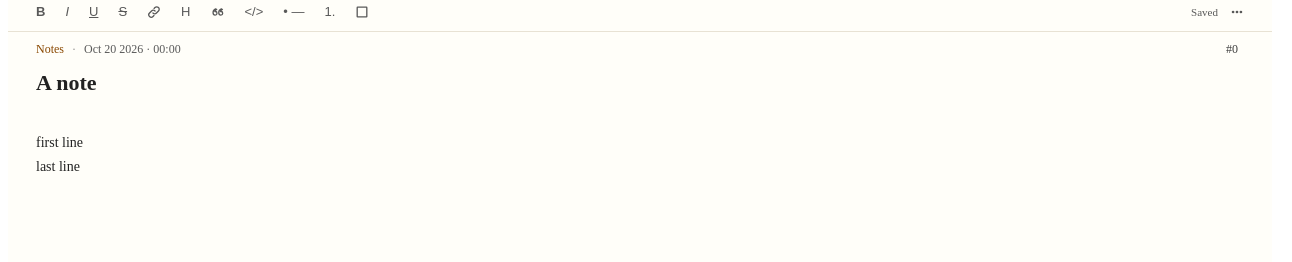
Test: #-autocomplete in the body › typing #st lists the account's tags, prefix matches first, at the caret
(page scrolled)
Clear the field with class "editor-body": (60, 142) x1=36 y1=135 x2=83 y2=174
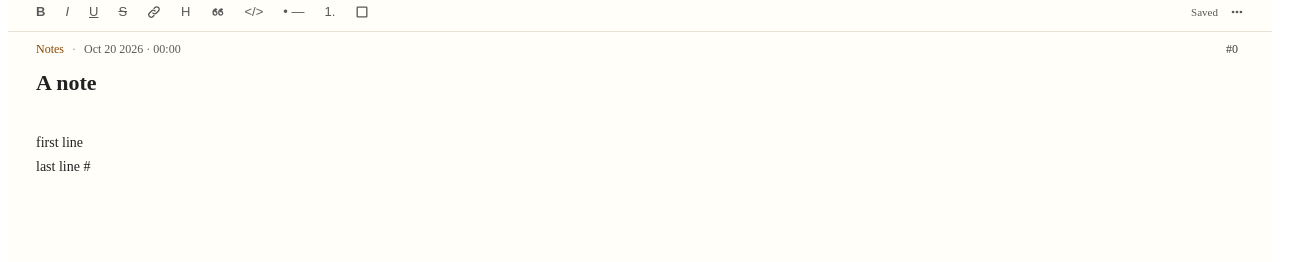
Clear the field with class "editor-body": (60, 142) x1=36 y1=135 x2=90 y2=174
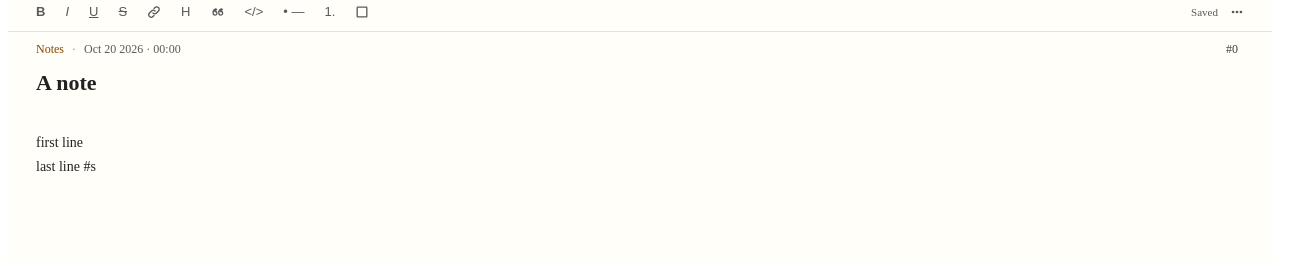
Clear the field with class "editor-body": (60, 142) x1=36 y1=135 x2=96 y2=174
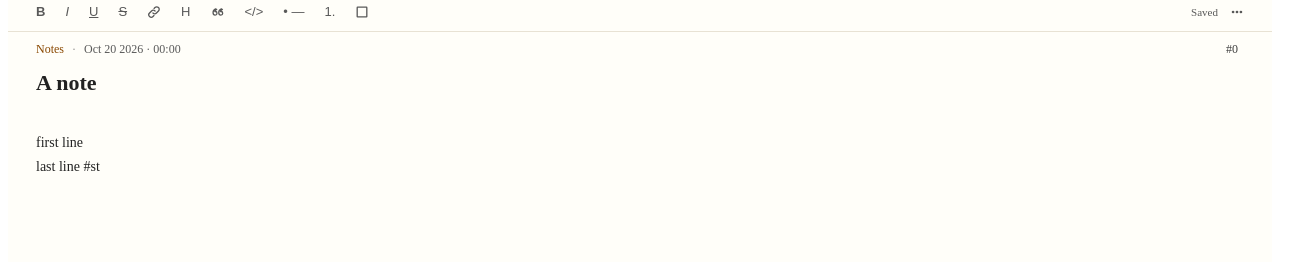
Clear the field with class "editor-body": (60, 142) x1=36 y1=135 x2=100 y2=174
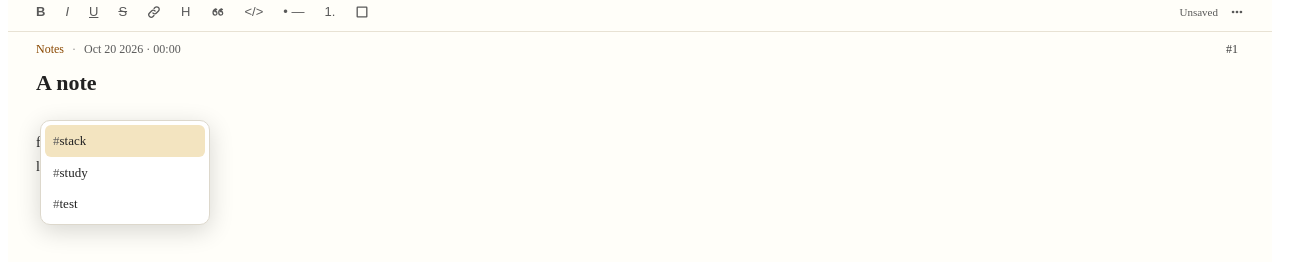
Check: the text "stack" is shown, box x1=60 y1=131 x2=86 y2=150
